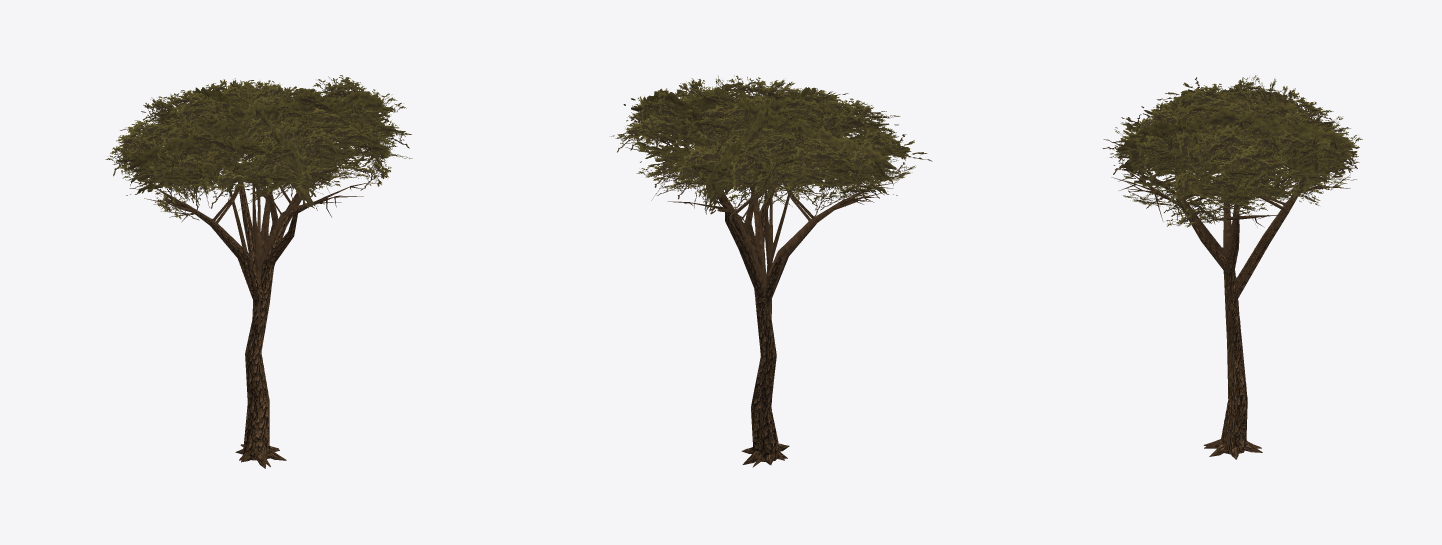
The model's file is Acacia_02_Alta_Esguia.glb.
3 views of the same model, side by side, from view 1: azimuth 30°, elevation 25°; view 2: azimuth 150°, elevation 25°; view 3: azimuth 270°, elevation 25° (orthographic). The views are drawn at different scales.
Parts seen in each view (by area): view 1: Folhagem fina, Acacia_02_Alta_Esguia impostor, Tronco e raizes, Ramos principais; view 2: Folhagem fina, Acacia_02_Alta_Esguia impostor, Tronco e raizes, Ramos principais; view 3: Folhagem fina, Acacia_02_Alta_Esguia impostor, Tronco e raizes, Ramos principais, Ramos secundarios.
Boxes of the visible parts, box(x1,y1,x2,y2) form: Folhagem fina: box(105, 75, 412, 220); Acacia_02_Alta_Esguia impostor: box(114, 80, 411, 467); Tronco e raizes: box(235, 256, 286, 468); Ramos principais: box(184, 182, 316, 307); Folhagem fina: box(615, 75, 915, 223); Acacia_02_Alta_Esguia impostor: box(611, 81, 932, 467); Tronco e raizes: box(741, 256, 789, 465); Ramos principais: box(718, 189, 845, 308); Folhagem fina: box(1102, 75, 1362, 227); Acacia_02_Alta_Esguia impostor: box(1103, 77, 1359, 448); Tronco e raizes: box(1203, 271, 1262, 459); Ramos principais: box(1162, 171, 1301, 307); Ramos secundarios: box(1134, 176, 1332, 219).
Size of what is drawn, in the model's own units: 9.33 by 9.33 by 9.33.
Materials: 3 (3 with a texture image).
